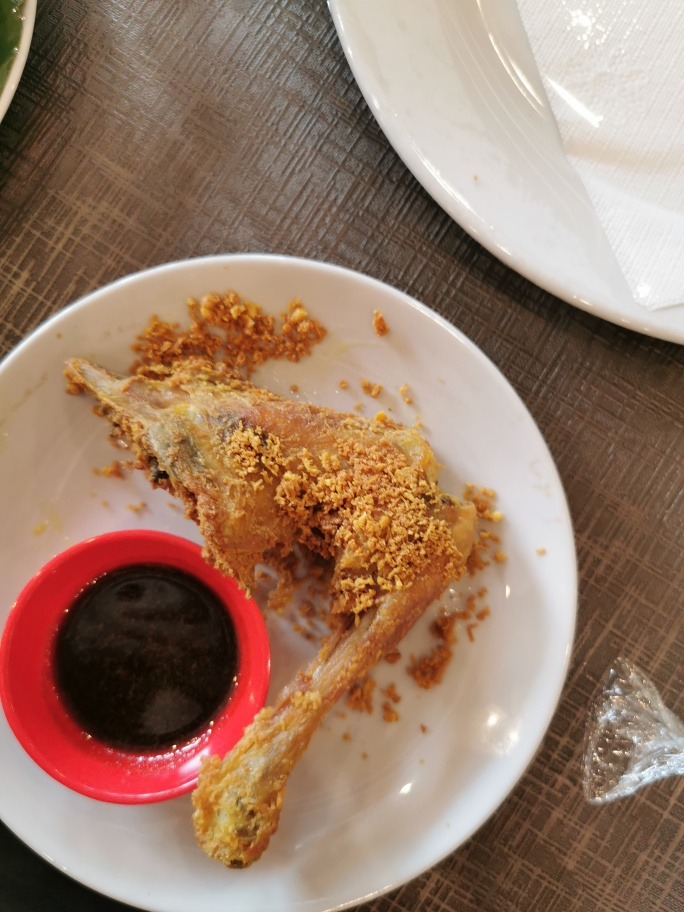ayam goreng: (58, 348, 490, 866)
kecap: (2, 529, 271, 802)
